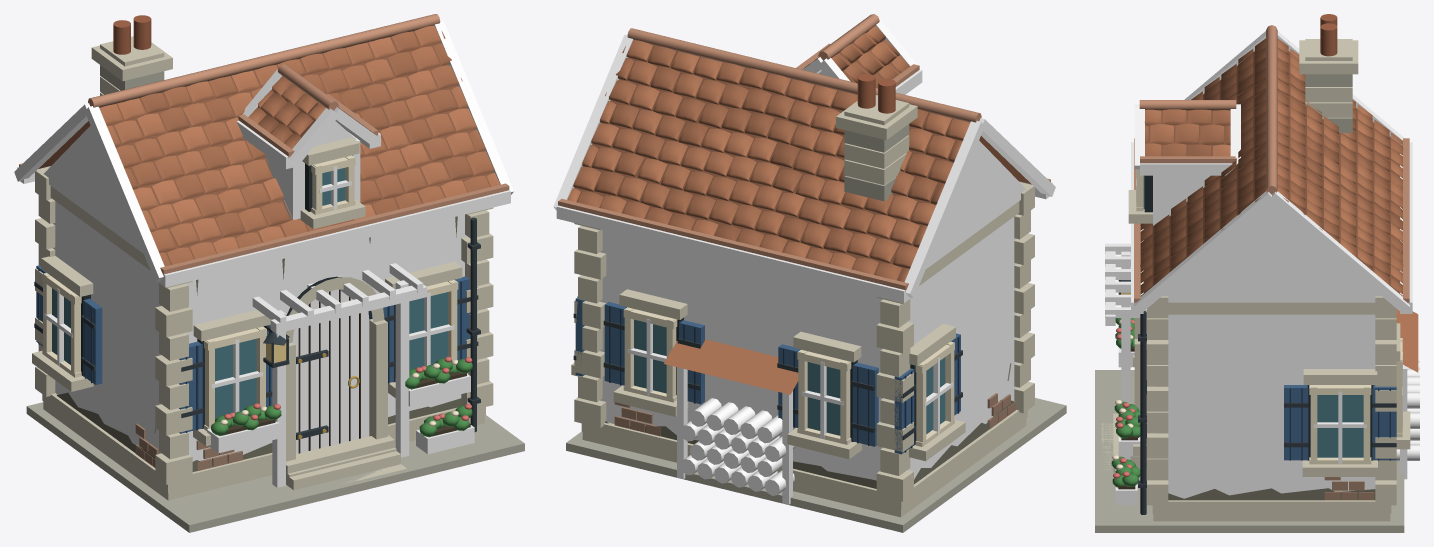
File: garden_house_clay.glb
3 views of the same model, side by side, from view 1: azimuth 30°, elevation 25°; view 2: azimuth 150°, elevation 25°; view 3: azimuth 270°, elevation 25° (orthographic). The views are drawn at different scales.
Parts seen in each view (by area): view 1: SourceMesh_00056, SourceMesh_00005, SourceMesh_00000, SourceMesh_00106, SourceMesh_00047, SourceMesh_00048, SourceMesh_00050, SourceMesh_00006, SourceMesh_00099, SourceMesh_00049, SourceMesh_00052, SourceMesh_00310 (+52 smaller); view 2: SourceMesh_00056, SourceMesh_00005, SourceMesh_00044, SourceMesh_00000, SourceMesh_00045, SourceMesh_00050, SourceMesh_00006, SourceMesh_00374, SourceMesh_00046, SourceMesh_00001, SourceMesh_00051, SourceMesh_00099 (+49 smaller); view 3: SourceMesh_00005, SourceMesh_00056, SourceMesh_00053, SourceMesh_00000, SourceMesh_00099, SourceMesh_00044, SourceMesh_00006, SourceMesh_00007, SourceMesh_00214, SourceMesh_00054, SourceMesh_00055, SourceMesh_00047 (+56 smaller).
Boxes of the visible parts, <box> form: SourceMesh_00056: <box>99,25,499,266</box>; SourceMesh_00005: <box>53,201,467,461</box>; SourceMesh_00000: <box>26,402,524,532</box>; SourceMesh_00106: <box>292,289,369,453</box>; SourceMesh_00047: <box>107,31,493,264</box>; SourceMesh_00048: <box>158,190,510,287</box>; SourceMesh_00050: <box>44,126,143,253</box>; SourceMesh_00006: <box>42,393,485,492</box>; SourceMesh_00099: <box>248,77,369,148</box>; SourceMesh_00049: <box>160,183,509,274</box>; SourceMesh_00052: <box>85,106,164,282</box>; SourceMesh_00310: <box>395,280,409,457</box>; SourceMesh_00056: <box>567,40,969,282</box>; SourceMesh_00005: <box>600,217,1016,480</box>; SourceMesh_00044: <box>574,45,962,280</box>; SourceMesh_00000: <box>566,398,1066,532</box>; SourceMesh_00045: <box>556,205,910,303</box>; SourceMesh_00050: <box>926,140,1025,268</box>; SourceMesh_00006: <box>581,410,1027,509</box>; SourceMesh_00374: <box>664,339,798,394</box>; SourceMesh_00046: <box>558,198,908,291</box>; SourceMesh_00001: <box>582,418,1026,517</box>; SourceMesh_00051: <box>904,121,983,298</box>; SourceMesh_00099: <box>805,25,910,87</box>; SourceMesh_00005: <box>1158,314,1375,498</box>; SourceMesh_00056: <box>1140,38,1403,296</box>; SourceMesh_00053: <box>1162,203,1381,302</box>; SourceMesh_00000: <box>1095,370,1404,532</box>; SourceMesh_00099: <box>1144,109,1230,156</box>; SourceMesh_00044: <box>1277,47,1399,293</box>; SourceMesh_00006: <box>1152,500,1391,513</box>; SourceMesh_00007: <box>1168,302,1375,314</box>; SourceMesh_00214: <box>1317,395,1363,457</box>; SourceMesh_00054: <box>1269,191,1409,313</box>; SourceMesh_00055: <box>1134,191,1274,313</box>; SourceMesh_00047: <box>1143,47,1265,293</box>.
Bounding box in the file's own units: 5.29 × 5.78 × 4.41.
